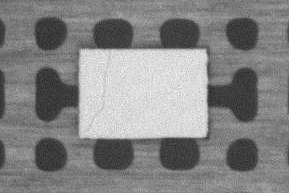DIE_CRACK: (85, 52, 111, 133)
